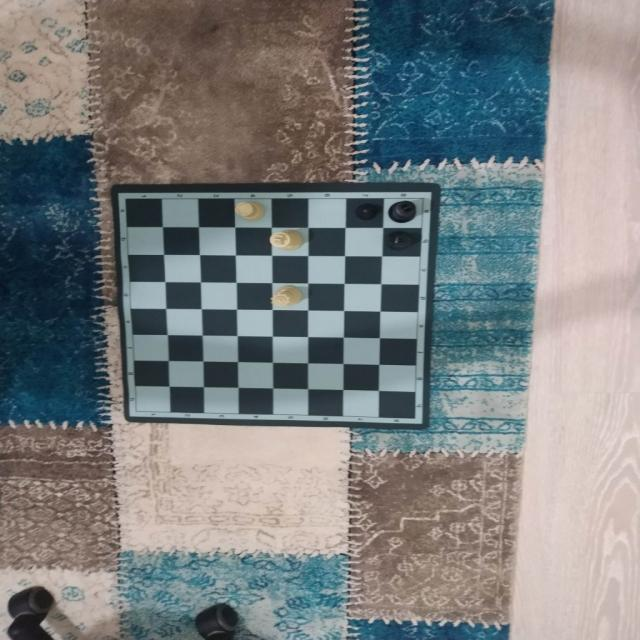chess-table-corners: (414, 192, 432, 205), (115, 193, 136, 204), (127, 406, 144, 418), (407, 414, 424, 424)
